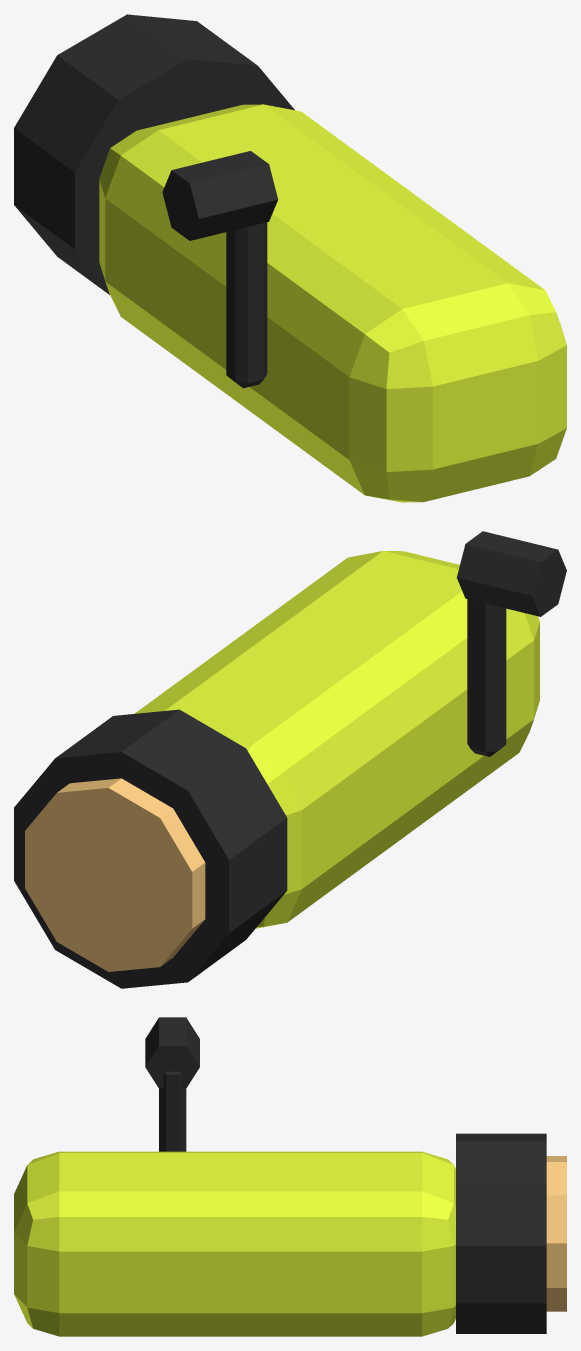
The model's file is relic_dynamo_torch.fbx.
The picture shows the model from 3 angles, top to bottom: view 1: azimuth 30°, elevation 25°; view 2: azimuth 150°, elevation 25°; view 3: azimuth 270°, elevation 25°; orthographic projection. The views are drawn at different scales.
Parts seen in each view (by area): view 1: Prop, Crank; view 2: Prop, Light, Crank; view 3: Prop, Crank, Light.
Boxes of the visible parts, x1,y1,x2,y2 form: Prop: (14,14,566,502); Crank: (162,151,278,388); Prop: (14,551,539,988); Light: (25,778,205,971); Crank: (456,531,566,756); Prop: (14,1133,546,1336); Crank: (145,1017,199,1151); Light: (546,1156,566,1311).
Bounding box in the file's own units: 0.1178 × 0.244 × 0.1154.
